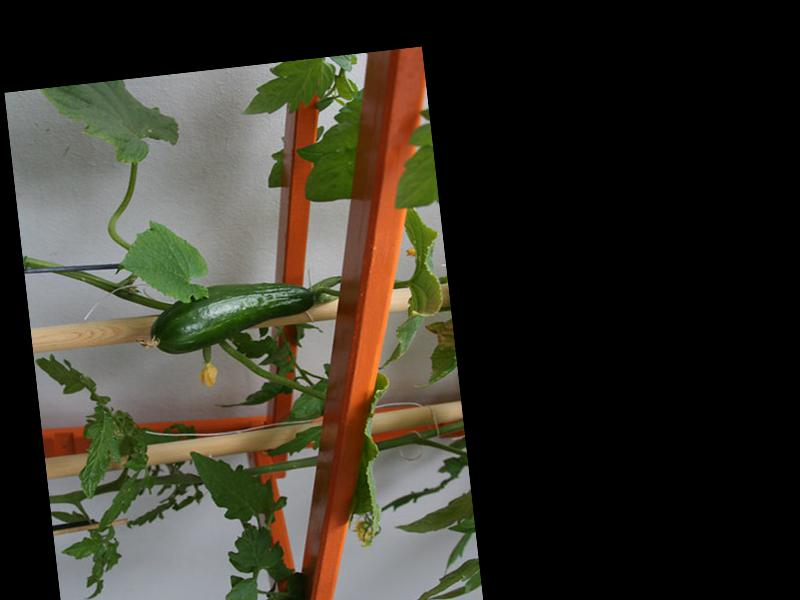Cucumber: (134, 275, 318, 358)
